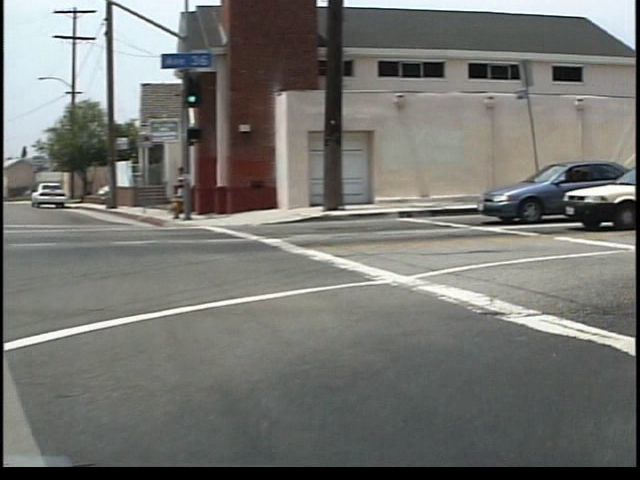person: (181, 165, 202, 218)
